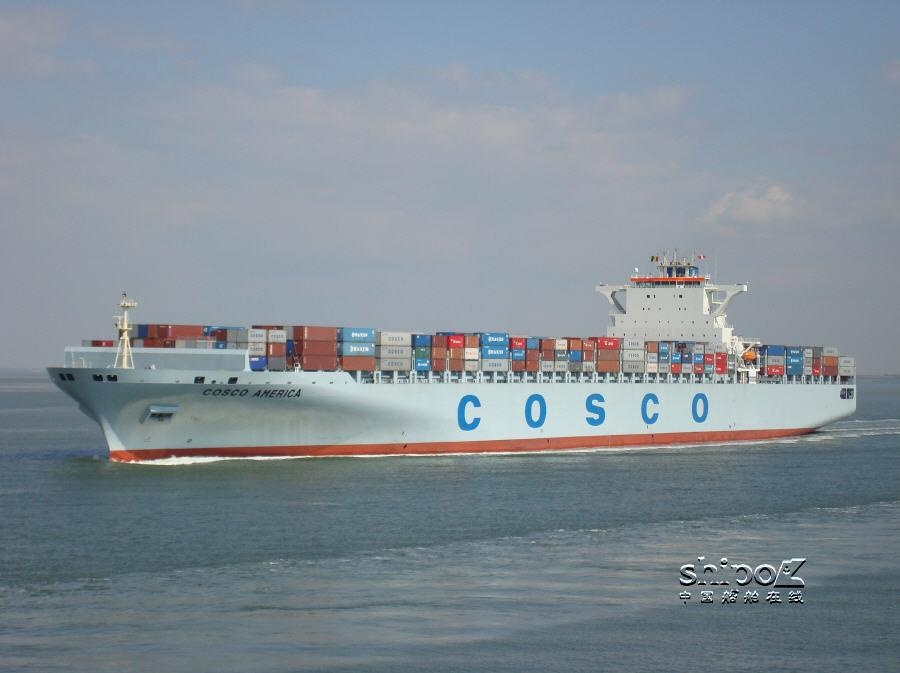Cargoship: (42, 233, 864, 470)
